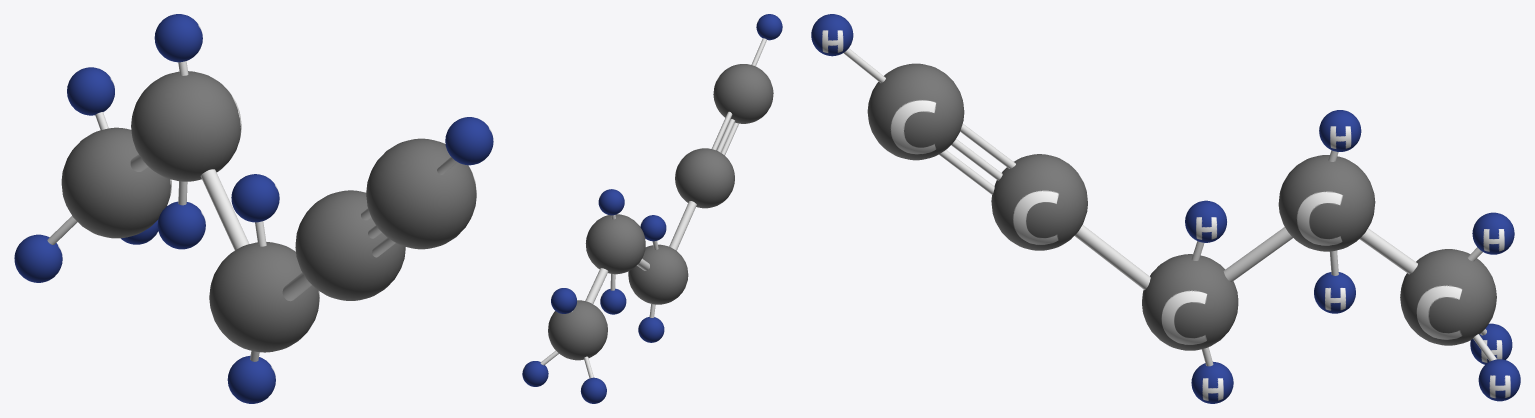
The model's file is pentyne.glb.
3 views of the same model, side by side, from view 1: azimuth 30°, elevation 25°; view 2: azimuth 150°, elevation 25°; view 3: azimuth 270°, elevation 25° (orthographic). The views are drawn at different scales.
Parts seen in each view (by area): view 1: carbon3, carbon, carbon2, carbon4, carbon1, hydrogen.006, hydrogen.008, hydrogen.002, hydrogen.009, hydrogen.007, hydrogen.010, hydrogen.005 (+2 smaller); view 2: carbon1, carbon, carbon3, carbon4, carbon2, hydrogen.002, hydrogen.008, hydrogen.005, hydrogen.009, hydrogen.007, hydrogen.010, hydrogen.011 (+3 smaller); view 3: carbon, carbon3, carbon1, carbon4, carbon2, hydrogen.009, hydrogen.011, hydrogen.002, hydrogen.006, hydrogen.008, hydrogen.007, hydrogen.005 (+4 smaller).
Part boxes in pixels (x1=…): carbon3: x1=131, y1=71, x2=241, y2=181; carbon: x1=366, y1=138, x2=476, y2=249; carbon2: x1=209, y1=242, x2=319, y2=352; carbon4: x1=61, y1=127, x2=171, y2=238; carbon1: x1=295, y1=190, x2=405, y2=300; hydrogen.006: x1=231, y1=174, x2=279, y2=222; hydrogen.008: x1=154, y1=14, x2=202, y2=62; hydrogen.002: x1=445, y1=117, x2=493, y2=165; hydrogen.009: x1=67, y1=67, x2=114, y2=115; hydrogen.007: x1=157, y1=201, x2=205, y2=249; hydrogen.010: x1=14, y1=234, x2=62, y2=282; hydrogen.005: x1=227, y1=355, x2=275, y2=403; carbon1: x1=675, y1=148, x2=734, y2=208; carbon: x1=713, y1=64, x2=773, y2=123; carbon3: x1=585, y1=214, x2=645, y2=274; carbon4: x1=548, y1=300, x2=607, y2=360; carbon2: x1=628, y1=244, x2=688, y2=304; hydrogen.002: x1=756, y1=14, x2=782, y2=40; hydrogen.008: x1=598, y1=189, x2=624, y2=215; hydrogen.005: x1=638, y1=317, x2=664, y2=342; hydrogen.009: x1=551, y1=288, x2=576, y2=313; hydrogen.007: x1=600, y1=288, x2=626, y2=314; hydrogen.010: x1=580, y1=377, x2=606, y2=403; hydrogen.011: x1=522, y1=361, x2=548, y2=386; carbon: x1=867, y1=63, x2=964, y2=160; carbon3: x1=1278, y1=155, x2=1375, y2=251; carbon1: x1=991, y1=154, x2=1087, y2=250; carbon4: x1=1400, y1=249, x2=1496, y2=345; carbon2: x1=1142, y1=254, x2=1238, y2=350; hydrogen.009: x1=1472, y1=212, x2=1514, y2=254; hydrogen.011: x1=1478, y1=359, x2=1520, y2=401; hydrogen.002: x1=811, y1=14, x2=853, y2=56; hydrogen.006: x1=1185, y1=200, x2=1226, y2=242; hydrogen.008: x1=1319, y1=110, x2=1361, y2=151; hydrogen.007: x1=1314, y1=272, x2=1355, y2=313; hydrogen.005: x1=1191, y1=362, x2=1233, y2=403.
Bounding box in the file's own units: 0.8744 × 2.55 × 4.25.
5 materials, 2 textured.
